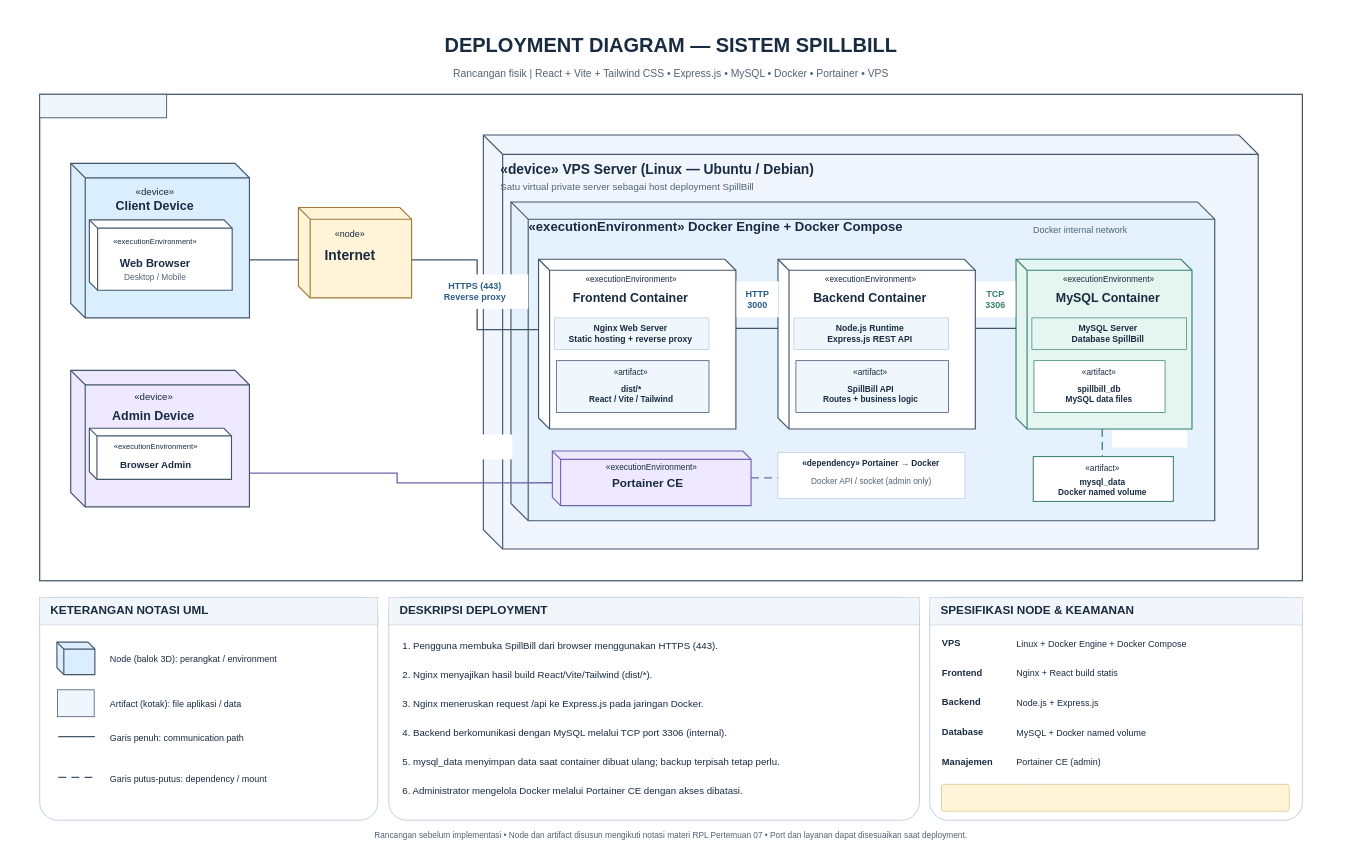
Some shapes in this 1348 by 865 pixel diagram are drawn without their labels. Here are the shapes that lost their labels. From the top down, the centre of each, then its label:
At point 103,106: "«deployment» SpillBill".
At point 273,239: "HTTPS 443".
At point 410,446: "HTTPS :9443 • Akses admin dibatasi".
At point 1149,438: "Mount".
At point 1115,797: "Port 3000 & 3306 internal; 9443 dibatasi VPN / firewall.".
